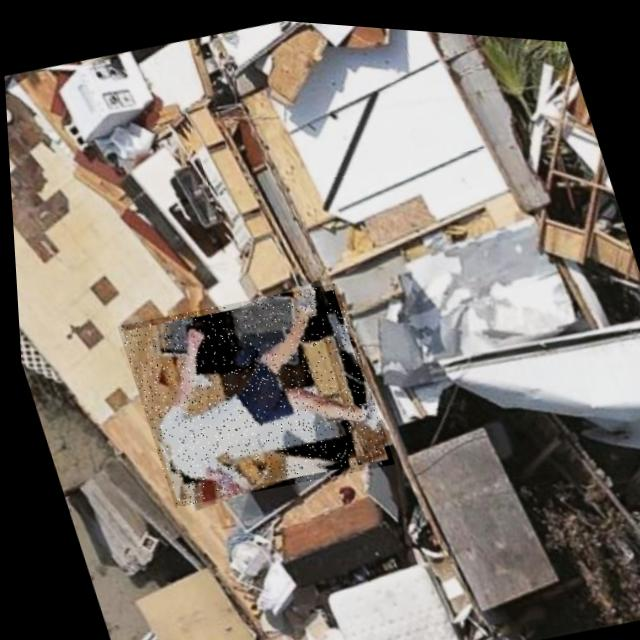Person in Rubble: (109, 263, 392, 517)
